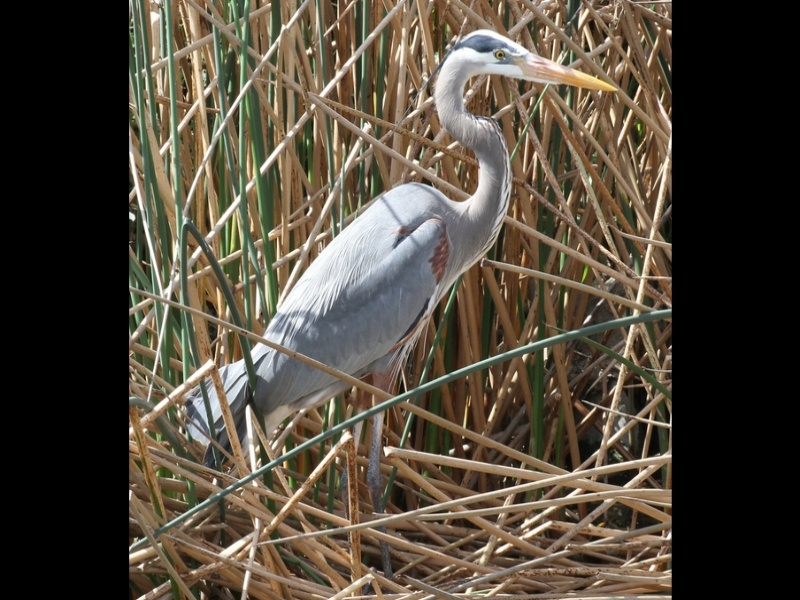heron: (187, 23, 619, 516)
